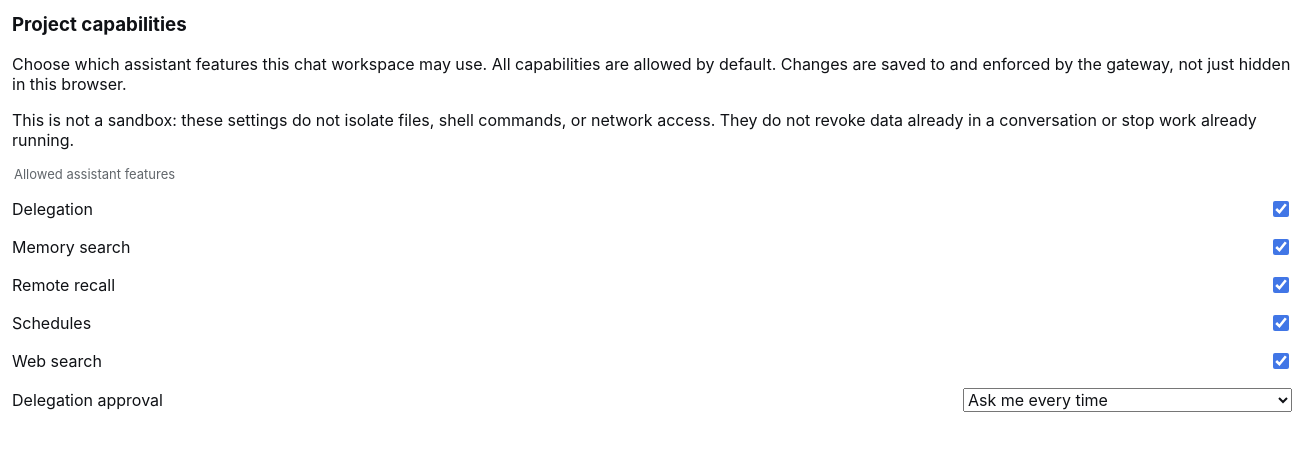
Scenario: keeps the saved policy and shows gateway errors when saving fails
Click the switch labelled "Web search" at (1281, 361), box [1273,353,1289,369]
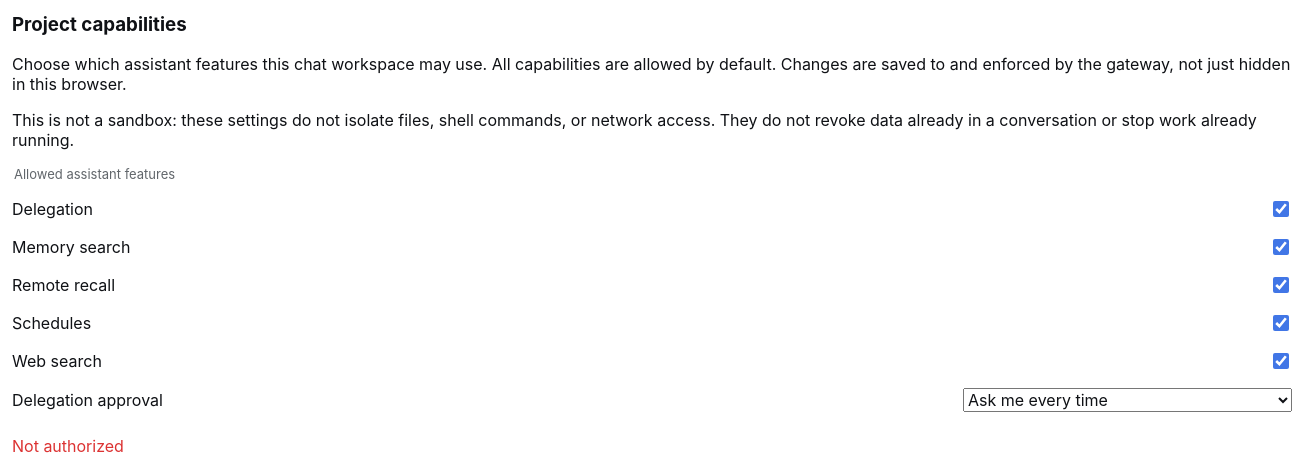
Check: the element that starts with "Allowed assistant features" is enabled, box [12,166,1292,420]
Check: the message "Not authorized" is shown, box [12,436,124,456]
